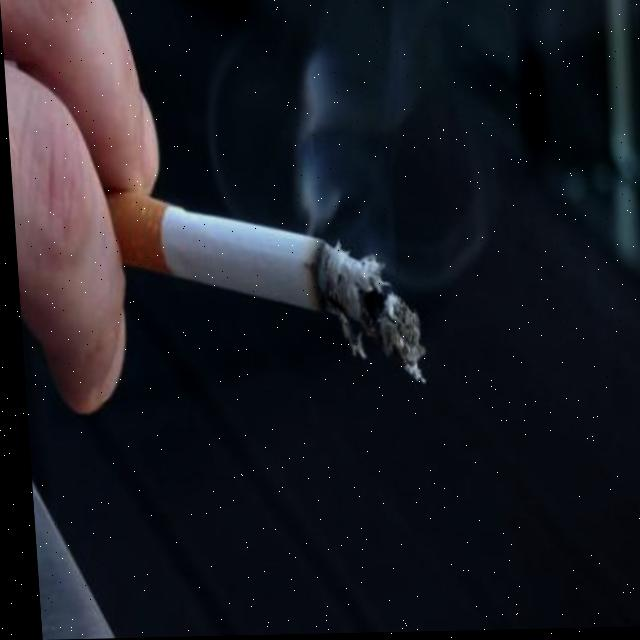cigarette: (102, 192, 424, 381)
